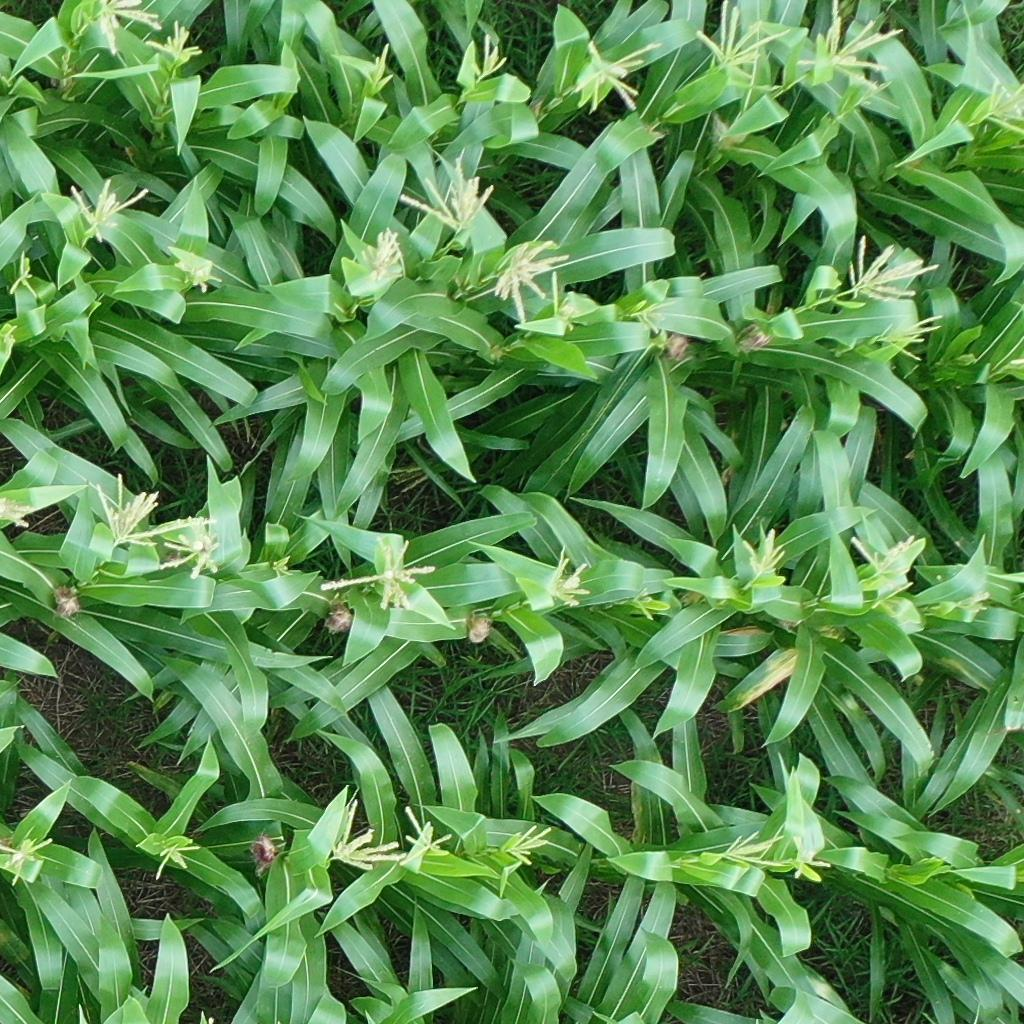Tassel: (802, 1, 907, 111), (86, 471, 214, 545), (321, 537, 432, 611), (565, 37, 665, 117), (398, 155, 492, 238), (691, 1, 793, 77), (486, 237, 572, 327), (323, 790, 407, 871), (839, 235, 939, 302), (67, 171, 149, 246), (846, 520, 917, 596), (77, 1, 168, 59), (869, 311, 939, 368), (158, 531, 224, 586), (143, 21, 201, 79), (400, 805, 453, 868), (1, 827, 53, 886), (724, 826, 787, 873), (543, 545, 589, 608), (355, 224, 405, 281), (741, 527, 787, 581), (501, 817, 548, 868), (979, 82, 1024, 134), (546, 272, 584, 329), (791, 833, 832, 885), (149, 836, 199, 878), (466, 34, 508, 83), (175, 255, 225, 294), (634, 292, 677, 337), (362, 38, 393, 88), (952, 588, 996, 621), (1, 492, 40, 529), (11, 250, 35, 292), (628, 586, 658, 619), (269, 557, 293, 583)
